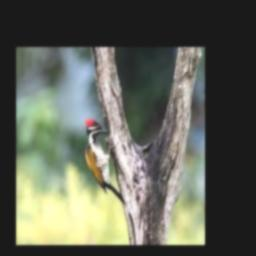Woodpecker: (86, 119, 126, 204)
